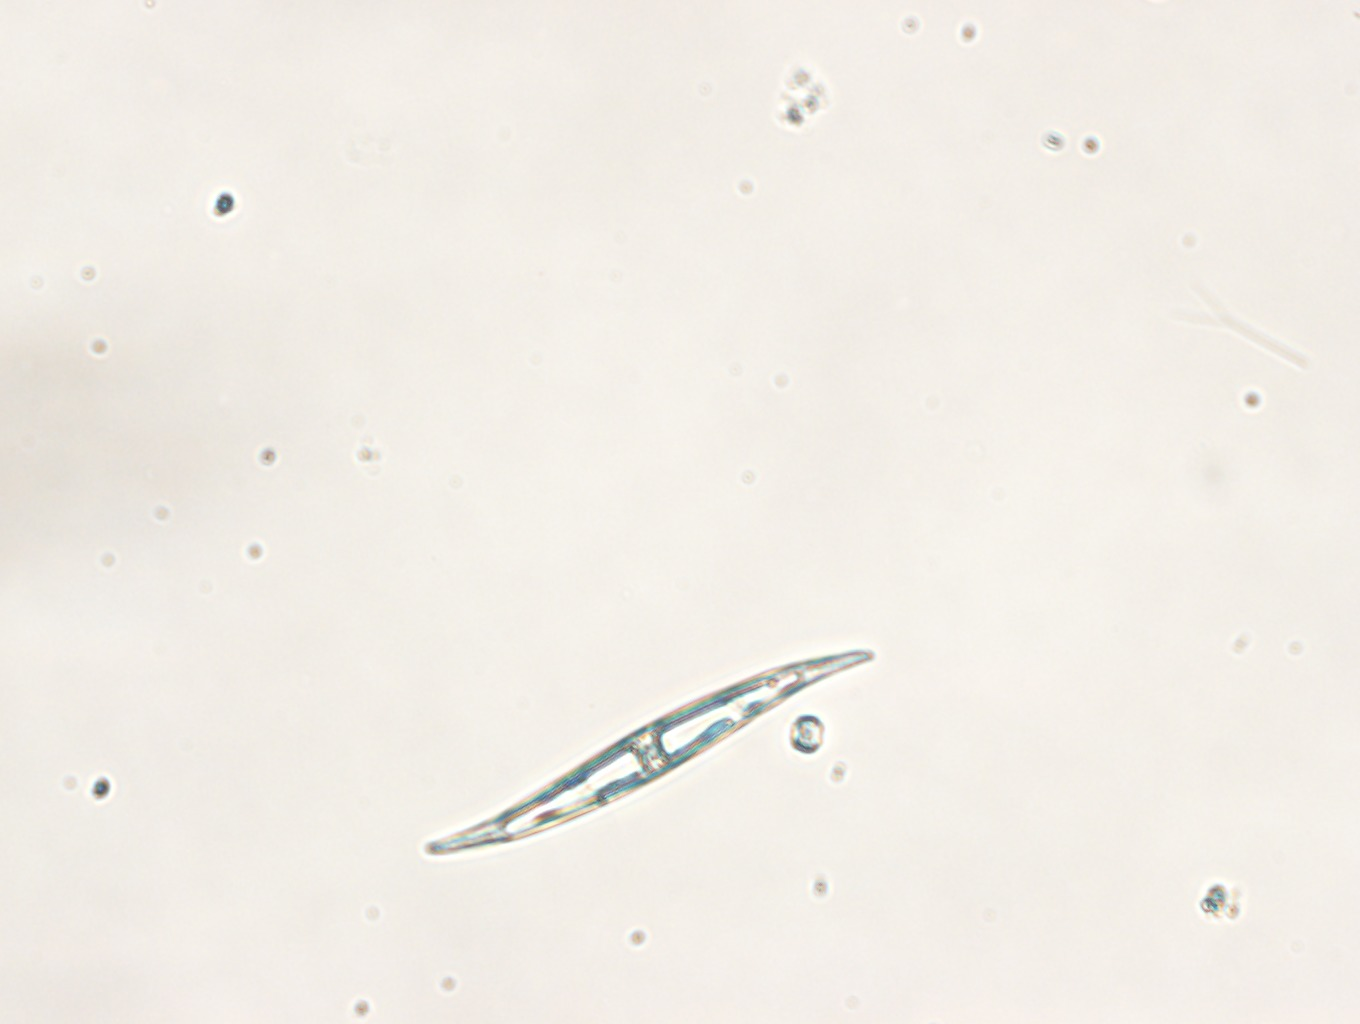pleurosigma pelagicum: (426, 648, 876, 859)
